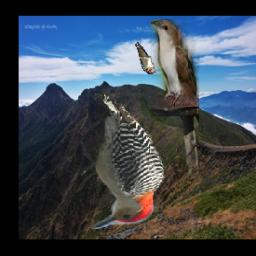Cuckoo: (151, 19, 199, 180)
Swallow: (135, 41, 157, 74)
Woodpecker: (80, 94, 167, 230)
